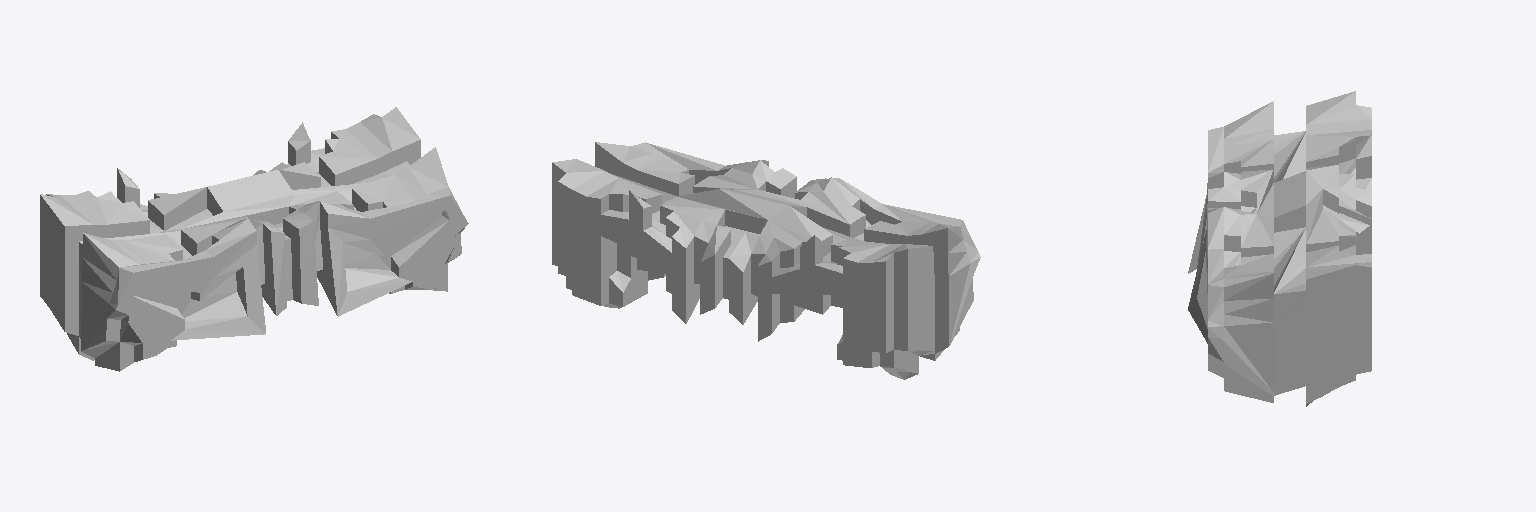
File: Laser_Orientator_LOD0-0.obj
3 views of the same model, side by side, from view 1: azimuth 30°, elevation 25°; view 2: azimuth 150°, elevation 25°; view 3: azimuth 270°, elevation 25° (orthographic).
Parts seen in each view (by area): view 1: Laser_Orientator_LOD0-0; view 2: Laser_Orientator_LOD0-0; view 3: Laser_Orientator_LOD0-0.
Boxes of the visible parts, x1,y1,x2,y2 form: Laser_Orientator_LOD0-0: [40, 107, 468, 371]; Laser_Orientator_LOD0-0: [552, 142, 980, 379]; Laser_Orientator_LOD0-0: [1188, 91, 1371, 406].
Bounding box in the file's own units: 2.5 × 1.05 × 1.12.